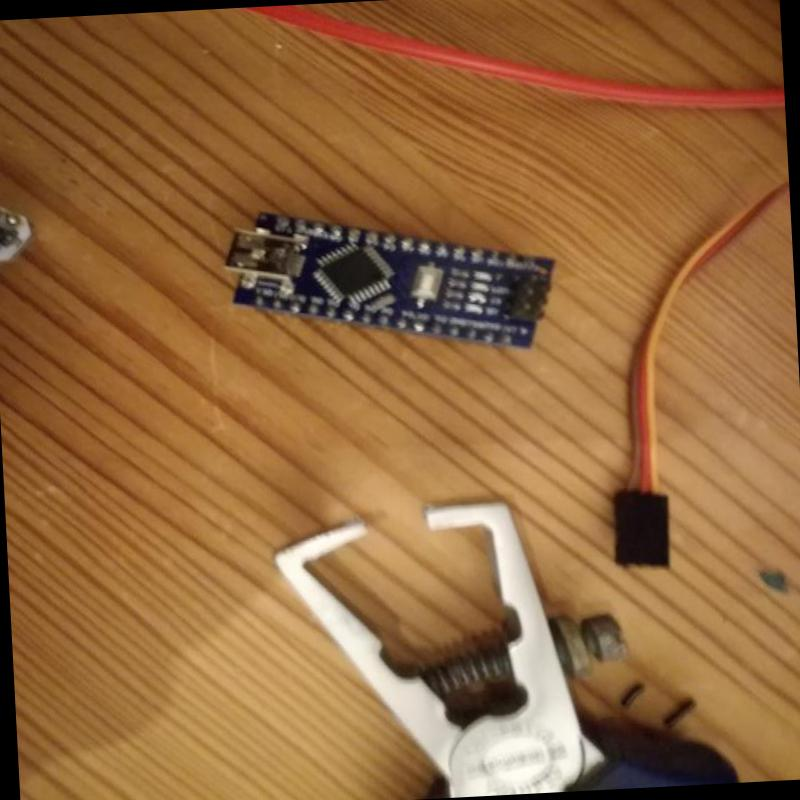Arduino_Nano: (217, 176, 565, 375)
